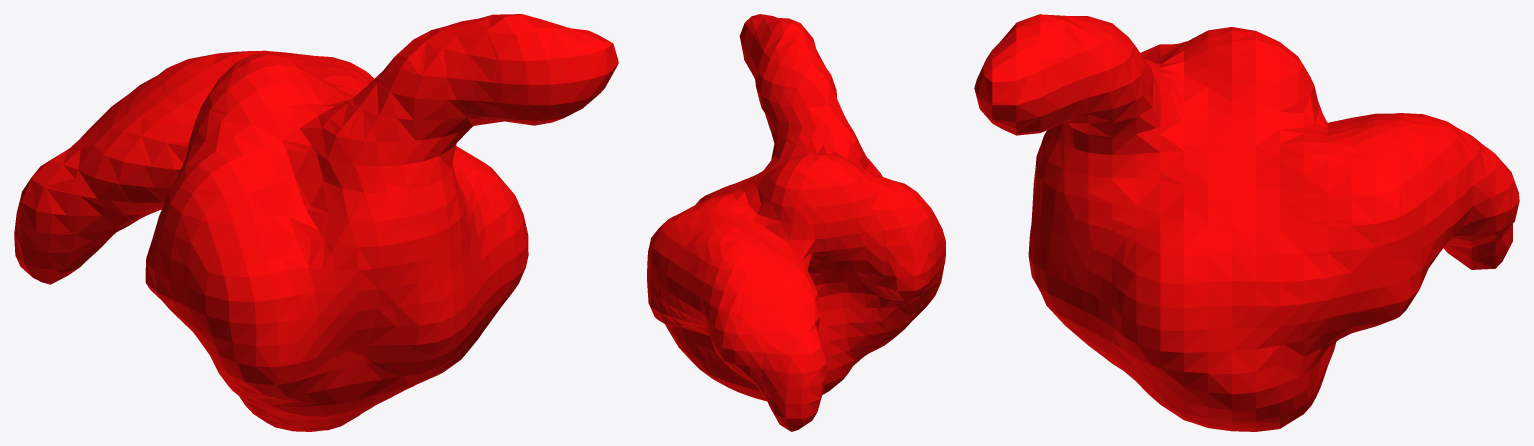
Rendered from ibaG_coarse.dae.
3 views of the same model, side by side, from view 1: azimuth 30°, elevation 25°; view 2: azimuth 150°, elevation 25°; view 3: azimuth 270°, elevation 25° (orthographic). The views are drawn at different scales.
Visible parts, largest first — view 1: ibaG; view 2: ibaG; view 3: ibaG.
Part boxes in pixels (<box>): ibaG: <box>14,14,618,431</box>; ibaG: <box>647,14,945,431</box>; ibaG: <box>974,14,1519,431</box>.
Bounding box in the file's own units: 35.94 × 42.94 × 47.55.
